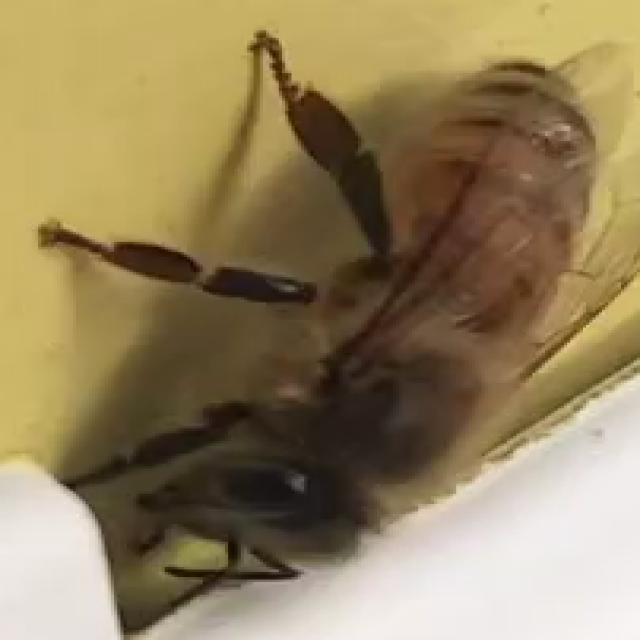honeybee: (24, 51, 608, 618)
